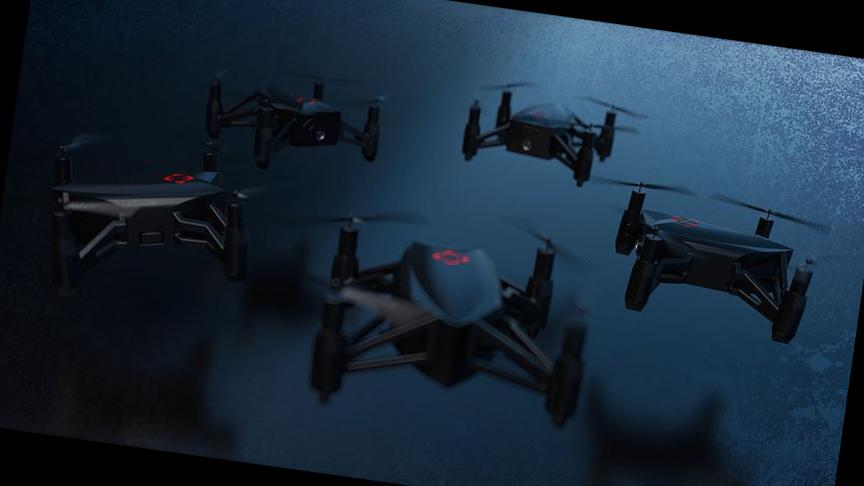drone: (279, 193, 620, 433), (574, 164, 857, 353), (31, 126, 280, 286), (204, 64, 428, 182), (438, 65, 638, 188)
